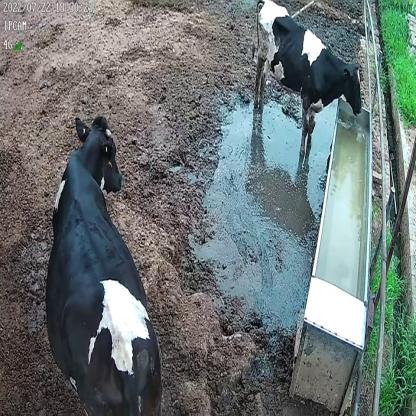cow: (46, 112, 164, 413), (250, 0, 364, 157)
